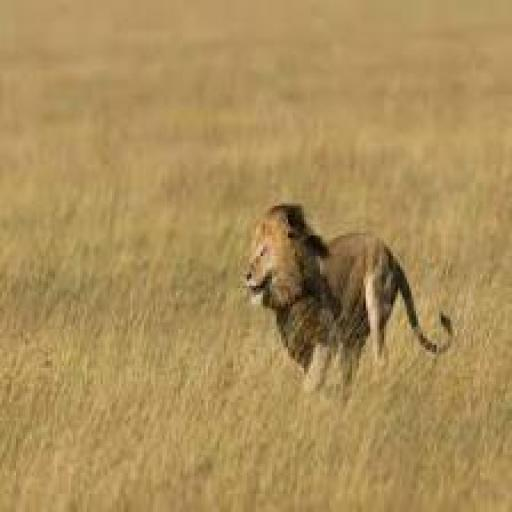lion: (256, 224, 409, 408)
